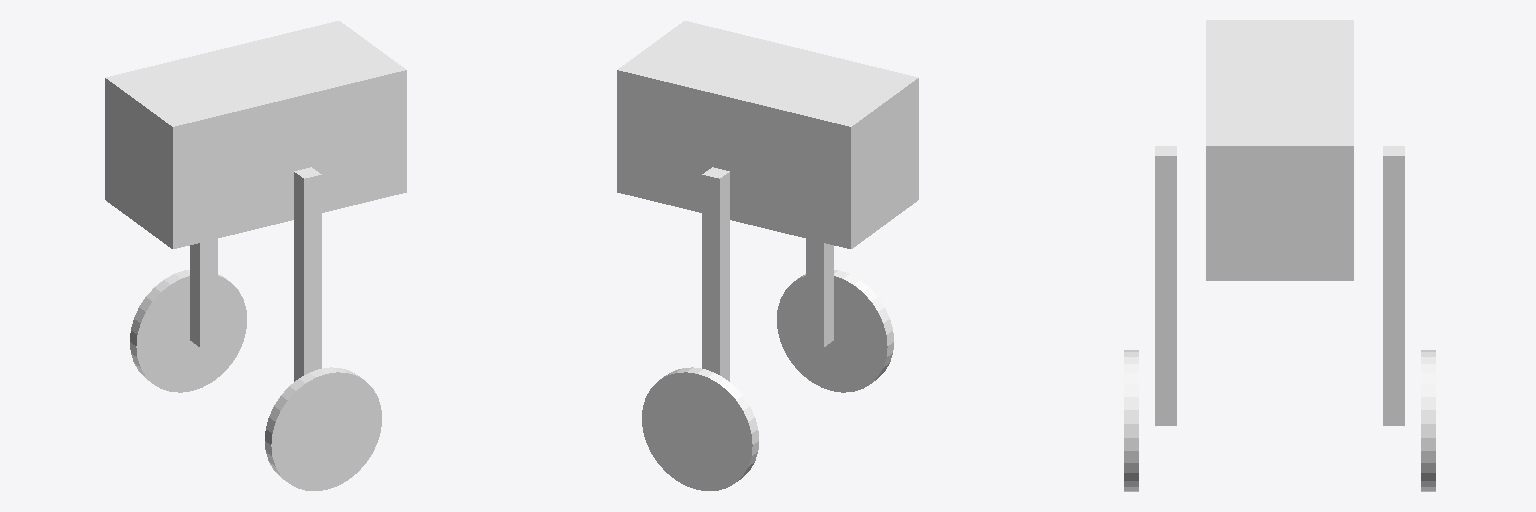
The robot description file, URDF, robot "O2with_inertial":
<?xml version="1.0" encoding="utf-8"?>
<!-- This URDF was automatically created by SolidWorks to URDF Exporter! Originally created by [author] ([email redacted]) 
     Commit Version: 1.6.0-4-g7f85cfe  Build Version: 1.6.7995.38578
     For more information, please see http://wiki.ros.org/sw_urdf_exporter -->
<robot
  name="O2with_inertial">
  <link
    name="base">
    <inertial>
      <origin
        xyz="-0.027235 0.0022242 -0.041044"
        rpy="0 0 0" />
      <mass
        value="11.125" />
      <inertia
        ixx="0.018846"
        ixy="0.00014507"
        ixz="-4.9796E-05"
        iyy="0.026976"
        iyz="1.0723E-05"
        izz="0.027635" />
    </inertial>
    <visual>
      <!-- <origin
        xyz="0 0 0"
        rpy="0 0 0" />
      <geometry>
        <mesh
          filename="package://o2/meshes/visual/base_link.STL" />
      </geometry>
      <material
        name="">
        <color
          rgba="0.75294 0.75294 0.75294 1" />
      </material> -->
          <origin
        xyz="0 0 0"
        rpy="0 0 0" />
      <geometry>
          <box size="0.4 0.2 0.2"/>
      </geometry>
                  <material
        name="">
        <color
          rgba="1 1 1 1" />
      </material>
    </visual>
    <collision>
      <origin
        xyz="0 0 0"
        rpy="0 0 0" />
      <geometry>
          <box size="0.4 0.2 0.2"/>
      </geometry>
    </collision>
  </link>
  <link
    name="L1">
    <inertial>
      <origin
        xyz="0.031112 0.0043417 -0.029096"
        rpy="0 0 0" />
      <mass
        value="2.7821" />
      <inertia
        ixx="0.0028627"
        ixy="-3.8759E-05"
        ixz="-0.00013033"
        iyy="0.0051034"
        iyz="-2.013E-05"
        izz="0.007" />
    </inertial>
    <visual>
      <!-- <origin
        xyz="0 0 0"
        rpy="0 0 0" />
      <geometry>
        <mesh
          filename="package://o2/meshes/visual/L1.STL" />
      </geometry>
      <material
        name="">
        <color
          rgba="0.75294 0.75294 0.75294 1" />
      </material> -->
          <origin
        xyz="0.1 0 0"
        rpy="0 1.5707963 0" />
      <geometry>
          <box size="0.03 0.03 0.2"/>
      </geometry>
                  <material
        name="">
        <color
          rgba="1 1 1 1" />
      </material>
    </visual>
    <collision>
      <origin
        xyz="0.1 0 0"
        rpy="0 1.5707963 0" />
      <geometry>
          <box size="0.03 0.03 0.2"/>
      </geometry>
    </collision>
  </link>
  <joint
    name="L1_joint"
    type="continuous">
    <origin
      xyz="0 0.15335 0"
      rpy="-1.5708 1.5708 0" />
    <parent
      link="base" />
    <child
      link="L1" />
    <axis
      xyz="0 0 1" />
  </joint>
  <link
    name="L2">
    <inertial>
      <origin
        xyz="0.10544 0.0072133 -0.0016596"
        rpy="0 0 0" />
      <mass
        value="0.30016" />
      <inertia
        ixx="0.00011058"
        ixy="2.7814E-05"
        ixz="-0.00013979"
        iyy="0.0015669"
        iyz="3.2981E-06"
        izz="0.0015997" />
    </inertial>
    <visual>
      <!-- <origin
        xyz="0 0 0"
        rpy="0 0 0" />
      <geometry>
        <mesh
          filename="package://o2/meshes/visual/L2.STL" />
      </geometry>
      <material
        name="">
        <color
          rgba="0.75294 0.75294 0.75294 1" />
      </material> -->
          <origin
        xyz="0.1 0 0"
        rpy="0 1.5707963 0" />
      <geometry>
          <box size="0.03 0.03 0.2"/>
      </geometry>
                  <material
        name="">
        <color
          rgba="1 1 1 1" />
      </material>
    </visual>
    <collision>
      <origin
        xyz="0.1 0 0"
        rpy="0 1.5707963 0" />
      <geometry>
          <box size="0.03 0.03 0.2"/>
      </geometry>
    </collision>
  </link>
  <joint
    name="L2_joint"
    type="continuous">
    <origin
      xyz="0.2 0 0"
      rpy="0 0 0" />
    <parent
      link="L1" />
    <child
      link="L2" />
    <axis
      xyz="0 0 1" />
  </joint>
  <link
    name="L3">
    <inertial>
      <origin
        xyz="2.1365E-06 -1.9006E-06 -0.00085595"
        rpy="0 0 0" />
      <mass
        value="1.5094" />
      <inertia
        ixx="0.0035438"
        ixy="-1.2461E-05"
        ixz="2.2653E-07"
        iyy="0.003508"
        iyz="-5.1248E-08"
        izz="0.0069047" />
    </inertial>
    <visual>
      <!-- <origin
        xyz="0 0 0"
        rpy="0 0 0" />
      <geometry>
        <mesh
          filename="package://o2/meshes/visual/L3.STL" />
      </geometry>
      <material
        name="">
        <color
          rgba="0.69804 0.69804 0.69804 1" />
      </material> -->
            <origin rpy="0 0 0" xyz="0 0 0"/>
      <geometry>
        <cylinder radius="0.0948" length="0.02"/>
      </geometry>
                  <material
        name="">
        <color
          rgba="1 1 1 1" />
      </material>
    </visual>
    <collision>
      <origin rpy="0 0 0" xyz="0 0 0"/>
      <geometry>
        <cylinder radius="0.0948" length="0.02"/>
      </geometry>
    </collision>
  </link>
  <joint
    name="L3_joint"
    type="continuous">
    <origin
      xyz="0.2 0 0.0463"
      rpy="0 0 0" />
    <parent
      link="L2" />
    <child
      link="L3" />
    <axis
      xyz="0 0 1" />
  </joint>
  <link
    name="R1">
    <inertial>
      <origin
        xyz="0.031112 0.0043416 0.029096"
        rpy="0 0 0" />
      <mass
        value="2.7821" />
      <inertia
        ixx="0.0028627"
        ixy="-3.8751E-05"
        ixz="0.00013032"
        iyy="0.0051034"
        iyz="2.0127E-05"
        izz="0.007" />
    </inertial>
    <visual>
      <!-- <origin
        xyz="0 0 0"
        rpy="0 0 0" />
      <geometry>
        <mesh
          filename="package://o2/meshes/visual/R1.STL" />
      </geometry>
      <material
        name="">
        <color
          rgba="0.75294 0.75294 0.75294 1" />
      </material> -->
         <origin
        xyz="0.1 0 0"
        rpy="0 1.5707963 0" />
      <geometry>
          <box size="0.03 0.03 0.2"/>
      </geometry>
                  <material
        name="">
        <color
          rgba="1 1 1 1" />
      </material>
    </visual>
    <collision>
      <origin
        xyz="0.1 0 0"
        rpy="0 1.5707963 0" />
      <geometry>
          <box size="0.03 0.03 0.2"/>
      </geometry>
    </collision>
  </link>
  <joint
    name="R1_joint"
    type="continuous">
    <origin
      xyz="0 -0.15335 0"
      rpy="-1.5708 1.5708 0" />
    <parent
      link="base" />
    <child
      link="R1" />
    <axis
      xyz="0 0 1" />
  </joint>
  <link
    name="R2">
    <inertial>
      <origin
        xyz="0.10544 0.0072133 0.0016596"
        rpy="0 0 0" />
      <mass
        value="0.30016" />
      <inertia
        ixx="0.00011058"
        ixy="2.7814E-05"
        ixz="0.00013979"
        iyy="0.0015669"
        iyz="-3.2981E-06"
        izz="0.0015997" />
    </inertial>
    <visual>
      <!-- <origin
        xyz="0 0 0"
        rpy="0 0 0" />
      <geometry>
        <mesh
          filename="package://o2/meshes/visual/R2.STL" />
      </geometry>
      <material
        name="">
        <color
          rgba="0.75294 0.75294 0.75294 1" />
      </material> -->
          <origin
        xyz="0.1 0 0"
        rpy="0 1.5707963 0" />
      <geometry>
          <box size="0.03 0.03 0.2"/>
      </geometry>
                  <material
        name="">
        <color
          rgba="1 1 1 1" />
      </material>
    </visual>
    <collision>
      <origin
        xyz="0.1 0 0"
        rpy="0 1.5707963 0" />
      <geometry>
          <box size="0.03 0.03 0.2"/>
      </geometry>
    </collision>
  </link>
  <joint
    name="R2_joint"
    type="continuous">
    <origin
      xyz="0.2 0 0"
      rpy="0 0 0" />
    <parent
      link="R1" />
    <child
      link="R2" />
    <axis
      xyz="0 0 1" />
  </joint>
  <link
    name="R3">
    <inertial>
      <origin
        xyz="2.0163E-06 -1.946E-06 0.00085616"
        rpy="0 0 0" />
      <mass
        value="1.5094" />
      <inertia
        ixx="0.0035439"
        ixy="-1.24E-05"
        ixz="-2.2753E-07"
        iyy="0.003508"
        iyz="4.9798E-08"
        izz="0.0069049" />
    </inertial>
    <visual>
      <!-- <origin
        xyz="0 0 0"
        rpy="0 0 0" />
      <geometry>
        <mesh
          filename="package://o2/meshes/visual/R3.STL" />
      </geometry>
      <material
        name="">
        <color
          rgba="0.79216 0.81961 0.93333 1" />
      </material> -->
          <origin rpy="0 0 0" xyz="0 0 0"/>
      <geometry>
        <cylinder radius="0.0948" length="0.02"/>
      </geometry>
                  <material
        name="">
        <color
          rgba="1 1 1 1" />
      </material>
    </visual>
    <collision>
      <origin rpy="0 0 0" xyz="0 0 0"/>
      <geometry>
        <cylinder radius="0.0948" length="0.02"/>
      </geometry>
    </collision>
  </link>
  <joint
    name="R3_joint"
    type="continuous">
    <origin
      xyz="0.2 0 -0.0463"
      rpy="0 0 0" />
    <parent
      link="R2" />
    <child
      link="R3" />
    <axis
      xyz="0 0 1" />
  </joint>
</robot>

--- Facts derived from the render (not from the file) ---
Views: 3 orthographic renders of the robot side by side, from view 1: azimuth 30°, elevation 25°; view 2: azimuth 150°, elevation 25°; view 3: azimuth 270°, elevation 25°.
Robot: O2with_inertial — 7 links, 6 joints (6 continuous); root link base; default pose: all joints at 0.
Visible links, largest first — view 1: base, R3, L3, R1, L2, R2; view 2: base, L3, R3, L1, R2, L2; view 3: base, L1, R1, L2, R2, L3, R3.
Boxes of the visible links, bbox=[...] form: base: bbox=[105, 21, 406, 248]; R3: bbox=[265, 367, 381, 490]; L3: bbox=[130, 270, 246, 392]; R1: bbox=[294, 167, 321, 300]; L2: bbox=[190, 239, 217, 347]; R2: bbox=[294, 294, 321, 381]; base: bbox=[617, 21, 918, 248]; L3: bbox=[642, 367, 758, 490]; R3: bbox=[777, 270, 893, 392]; L1: bbox=[702, 167, 729, 300]; R2: bbox=[806, 239, 833, 347]; L2: bbox=[702, 294, 729, 381]; base: bbox=[1206, 20, 1353, 280]; L1: bbox=[1383, 146, 1404, 290]; R1: bbox=[1155, 146, 1176, 290]; L2: bbox=[1383, 291, 1404, 425]; R2: bbox=[1155, 291, 1176, 425]; L3: bbox=[1421, 350, 1435, 491]; R3: bbox=[1124, 350, 1138, 491].
Bounding box of the posed robot: 0.4 × 0.4193 × 0.5948 m (x, y, z).
Geometry: primitives only (box / cylinder / sphere), no mesh files.